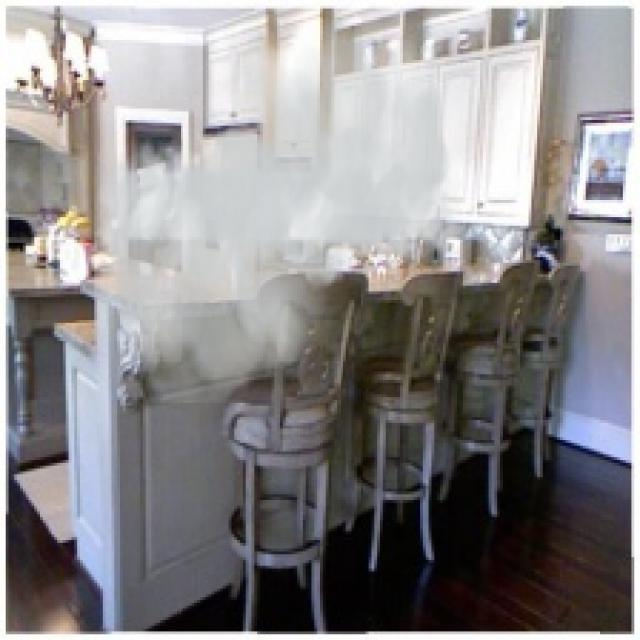smoke: (94, 8, 466, 403)
